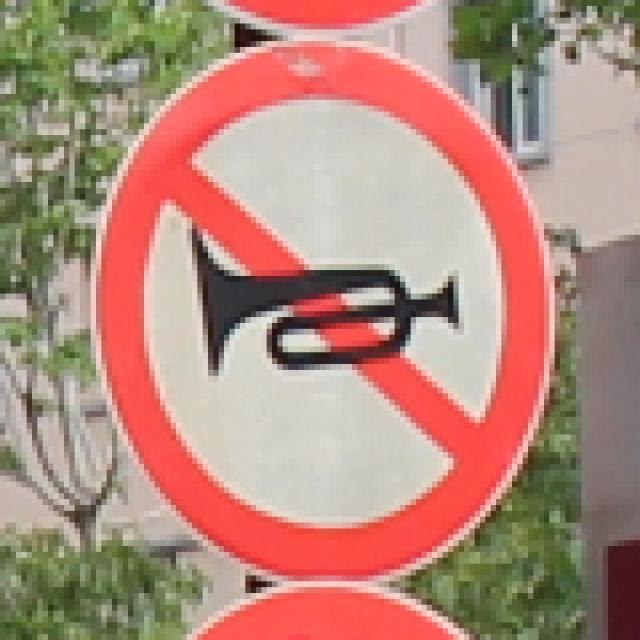No Horn: (93, 36, 558, 586)
